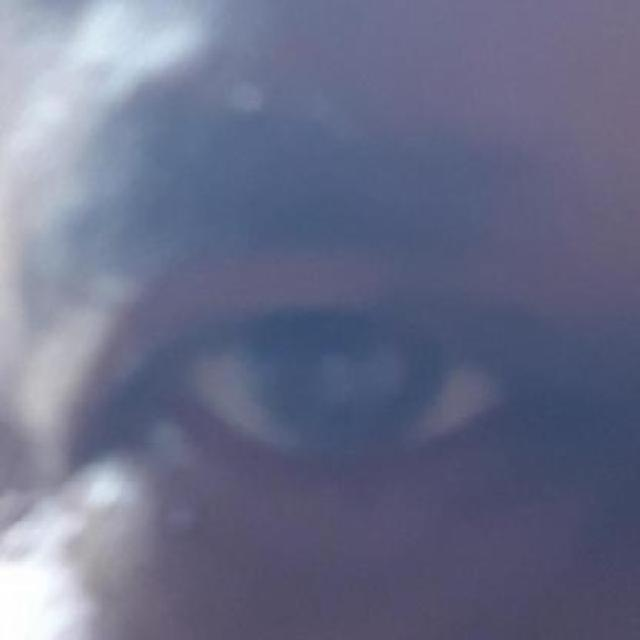awake: (157, 302, 506, 486)
